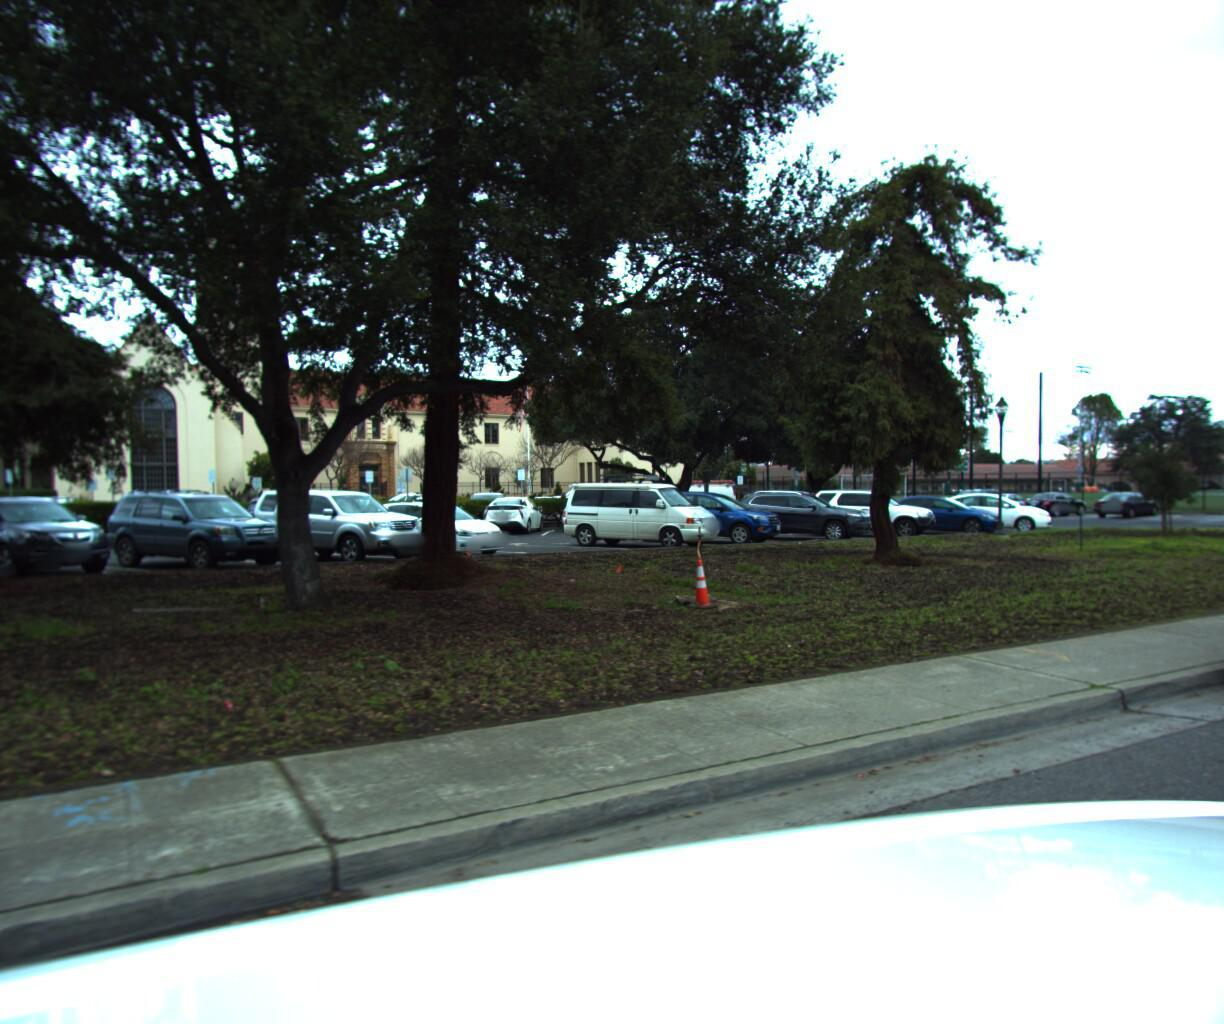car: (1200, 496, 1224, 731)
